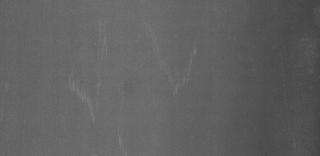silk spot: (143, 38, 201, 98), (60, 70, 102, 126), (112, 120, 130, 154)
